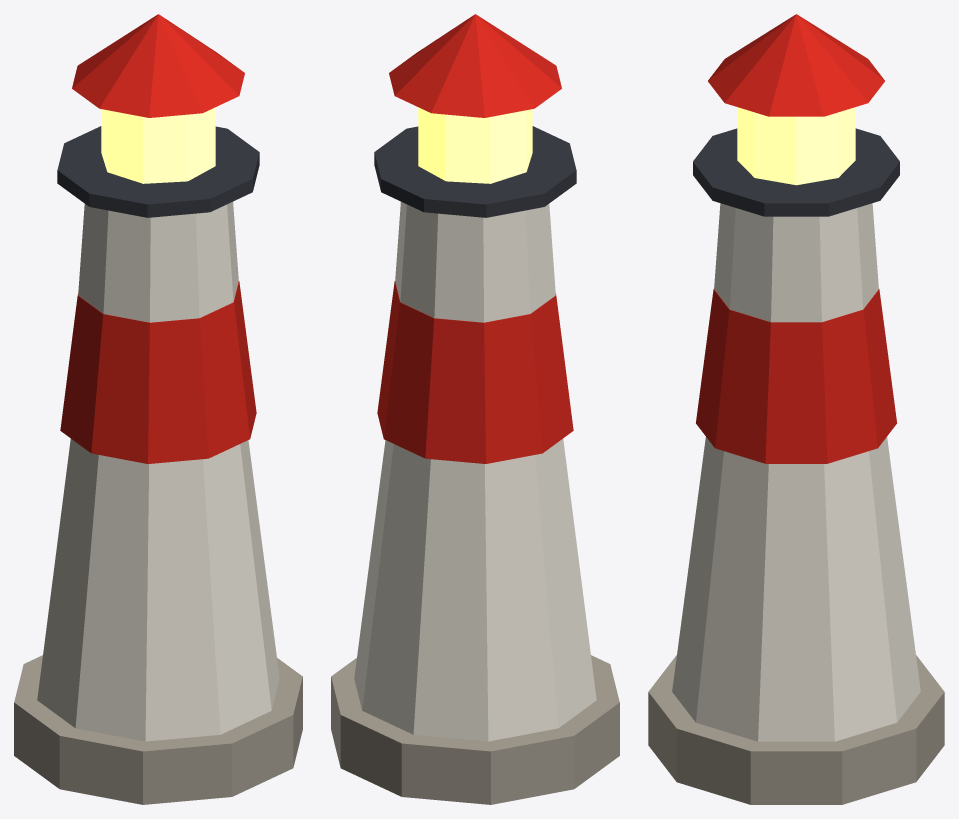
Rendered from lighthouse.glb.
3 views of the same model, side by side, from view 1: azimuth 30°, elevation 25°; view 2: azimuth 150°, elevation 25°; view 3: azimuth 270°, elevation 25° (orthographic).
Parts seen in each view (by area): view 1: lighthouse; view 2: lighthouse; view 3: lighthouse.
Part boxes in pixels (left/top/right/bottom): lighthouse: left=14, top=14, right=302, bottom=804; lighthouse: left=331, top=14, right=619, bottom=804; lighthouse: left=648, top=14, right=944, bottom=804.
Bounding box in the file's own units: 0.9511 × 2.72 × 1.
